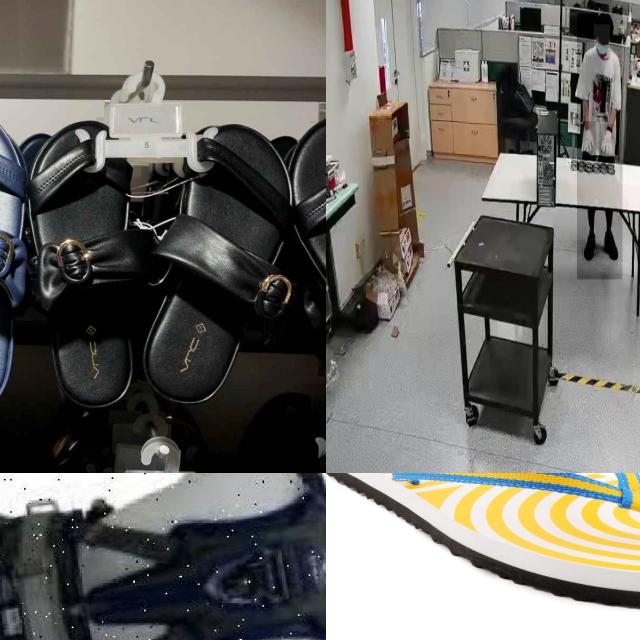Harness: (0, 473, 326, 640)
Sandals: (8, 99, 306, 420), (326, 473, 640, 613)
face_mask: (594, 24, 610, 54)
hand_glove: (599, 124, 619, 160), (583, 121, 596, 159)
head_nohelmet: (594, 12, 614, 29)
person: (577, 14, 623, 280)
shoes: (601, 224, 622, 261), (581, 225, 597, 263)
